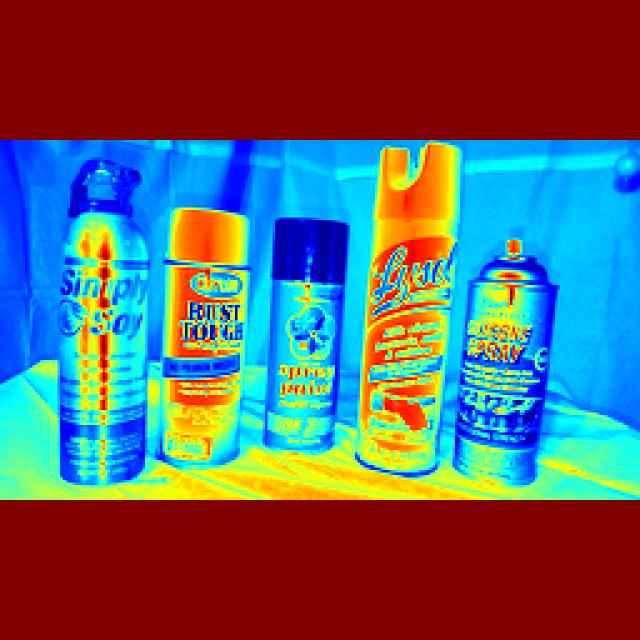Aerosol Cans: (56, 160, 151, 482), (373, 146, 454, 466), (160, 195, 244, 481), (464, 229, 548, 495)
